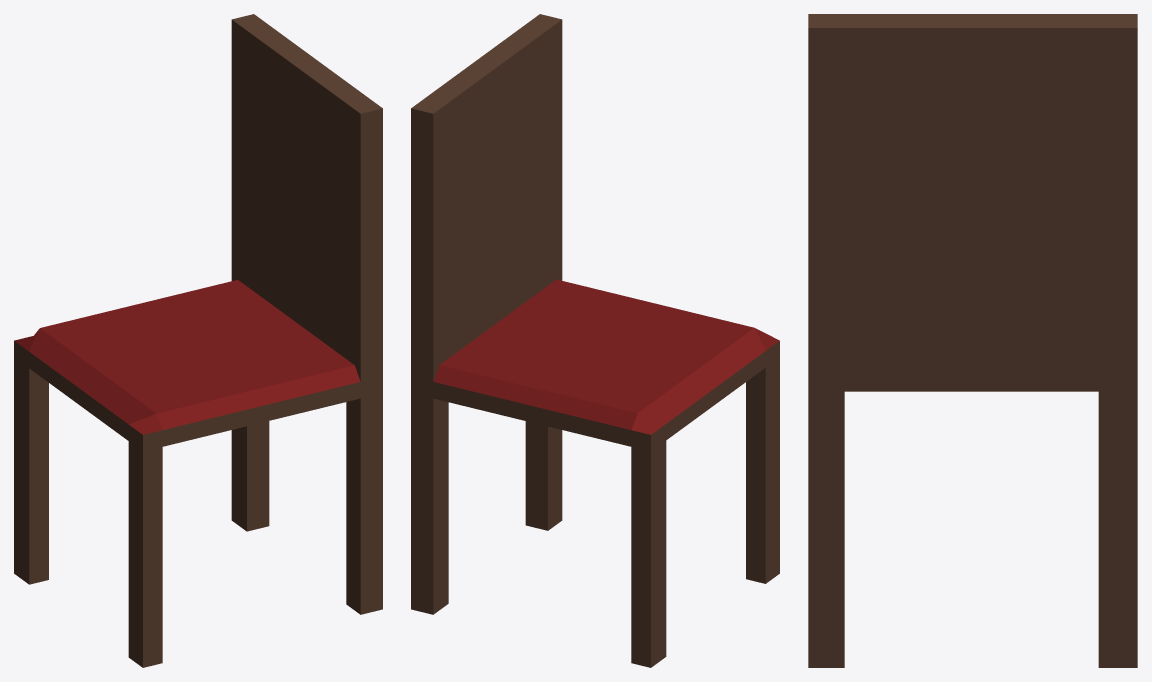
Rendered from Chair.fbx.
3 views of the same model, side by side, from view 1: azimuth 30°, elevation 25°; view 2: azimuth 150°, elevation 25°; view 3: azimuth 270°, elevation 25° (orthographic). The views are drawn at different scales.
Visible parts, largest first — view 1: Cube.001; view 2: Cube.001; view 3: Cube.001.
Part boxes in pixels (box(x1,y1,x2,y2)): Cube.001: box(14, 14, 382, 667); Cube.001: box(411, 14, 779, 667); Cube.001: box(808, 14, 1137, 667).
Bounding box in the file's own units: 70.54 × 141 × 65.66.
